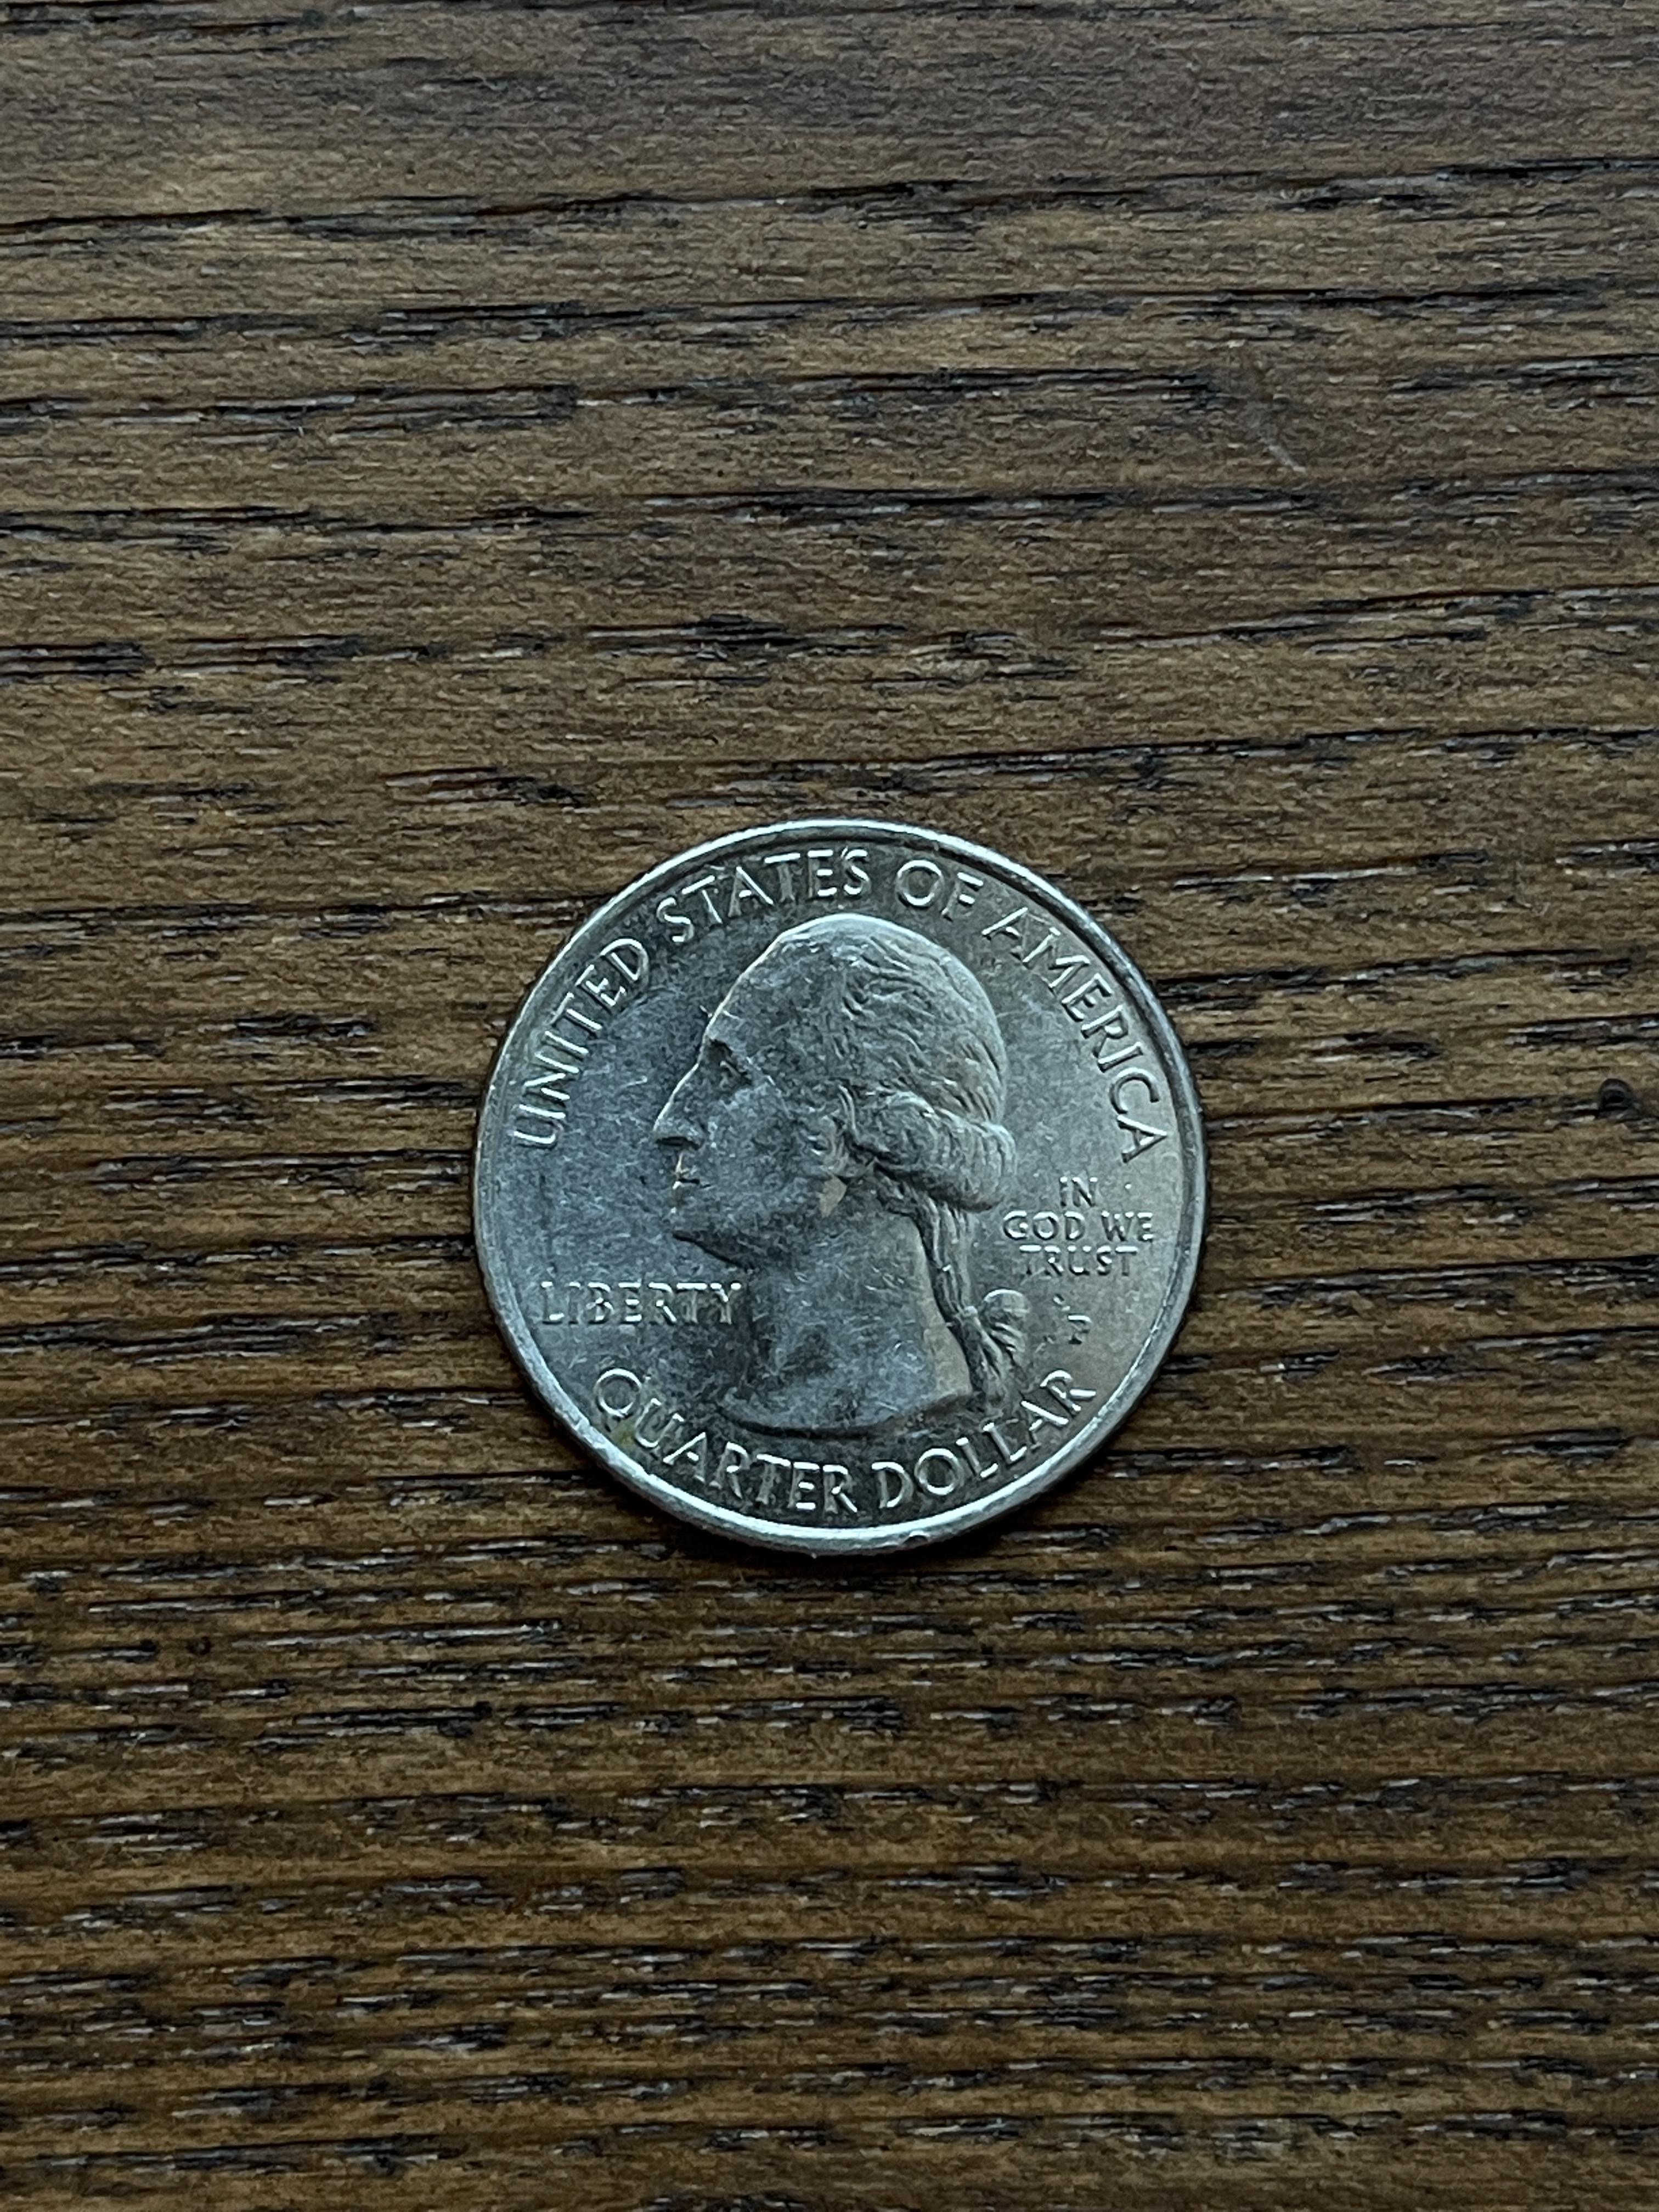Quarter: (464, 812, 1216, 1564)
